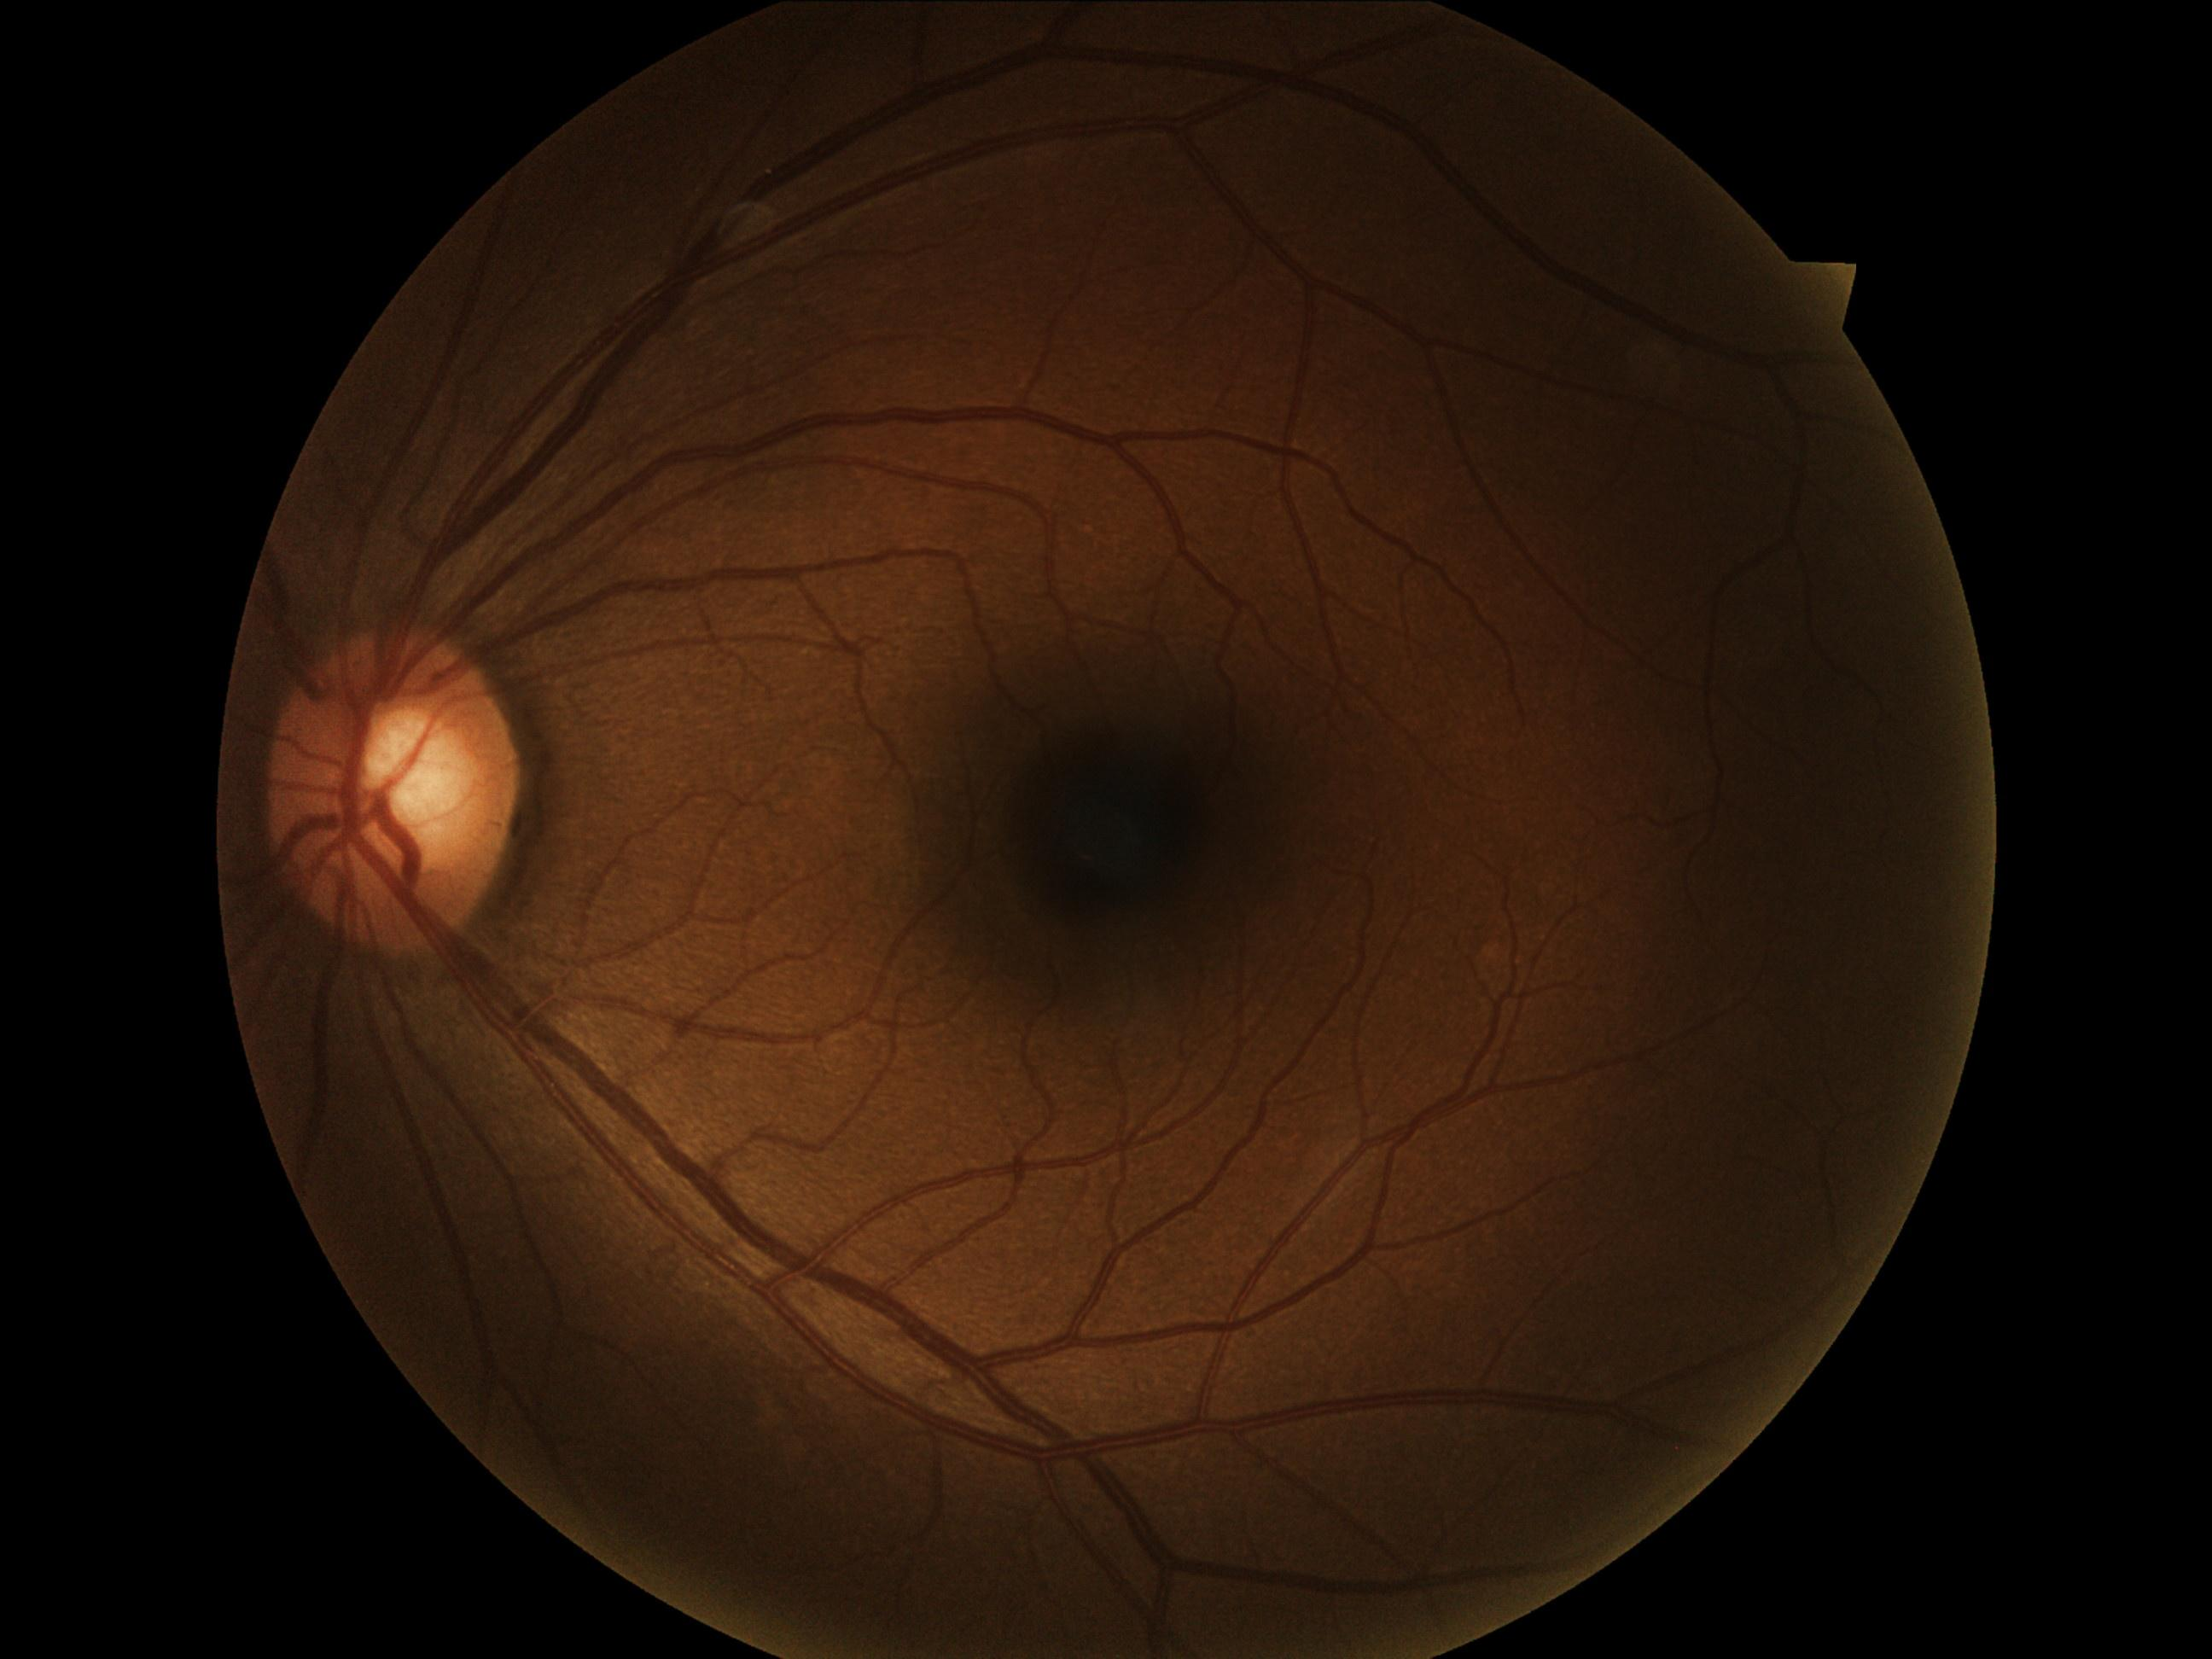Optic-nerve: (261, 620, 523, 955)
macula: (1003, 706, 1224, 957)
notch: (1784, 247, 1878, 335)
